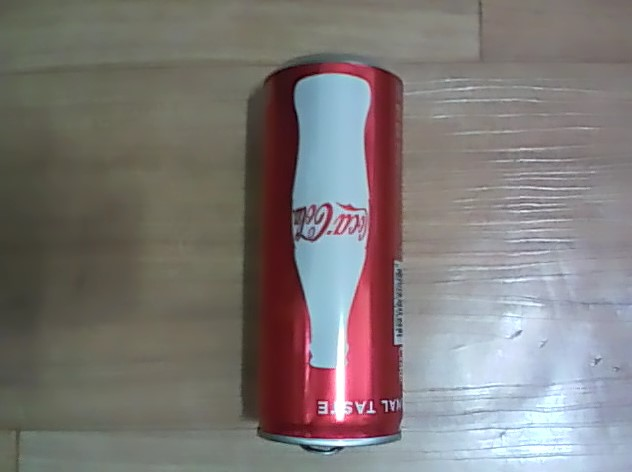Can: (236, 51, 411, 458)
